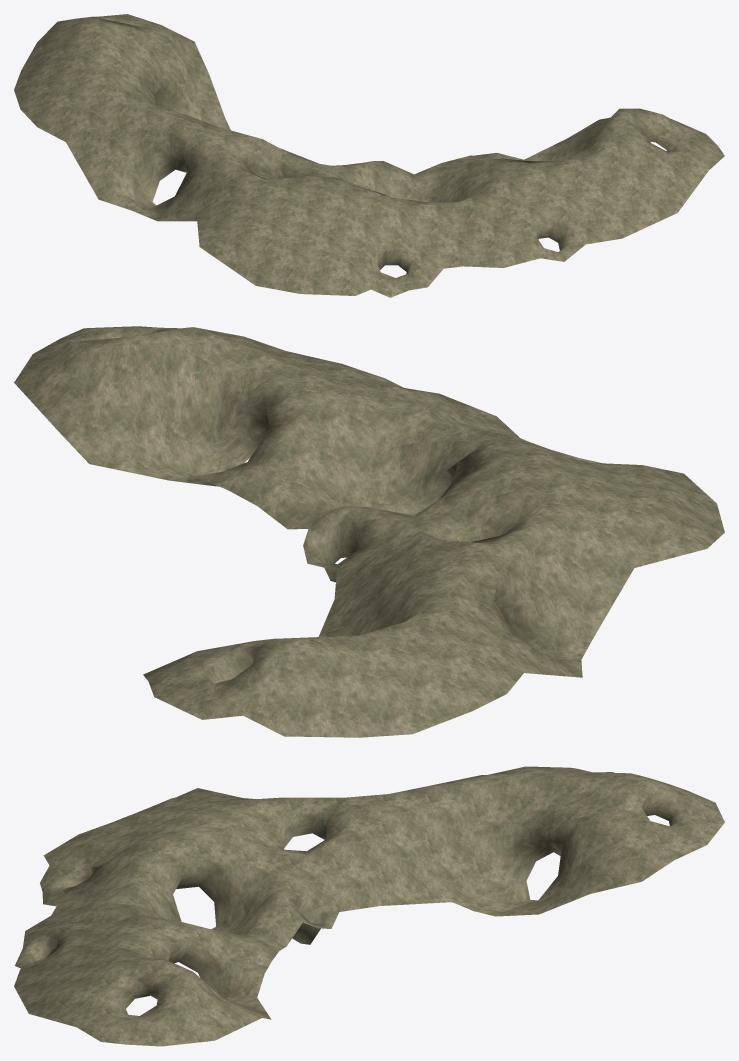
Rendered from EKH_JAIL_PS_JA_JAIL_ROOF03938.fbx.
3 renders of one model, top to bottom at view 1: azimuth 30°, elevation 25°; view 2: azimuth 150°, elevation 25°; view 3: azimuth 270°, elevation 25°, orthographic. The views are drawn at different scales.
Visible parts, largest first — view 1: EKH_JAIL_PS_JA_JAIL_ROOF03938; view 2: EKH_JAIL_PS_JA_JAIL_ROOF03938; view 3: EKH_JAIL_PS_JA_JAIL_ROOF03938.
Boxes of the visible parts, <box> form: EKH_JAIL_PS_JA_JAIL_ROOF03938: <box>14,14,724,297</box>; EKH_JAIL_PS_JA_JAIL_ROOF03938: <box>14,326,724,737</box>; EKH_JAIL_PS_JA_JAIL_ROOF03938: <box>14,766,724,1046</box>.
Bounding box in the file's own units: 277486 × 51545 × 308349.
Materials: 1 (1 with a texture image).
